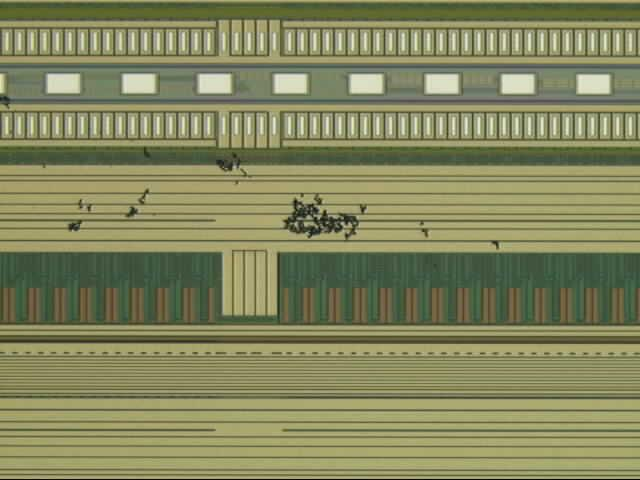PO CONTAMINATION: (1, 94, 505, 253)
